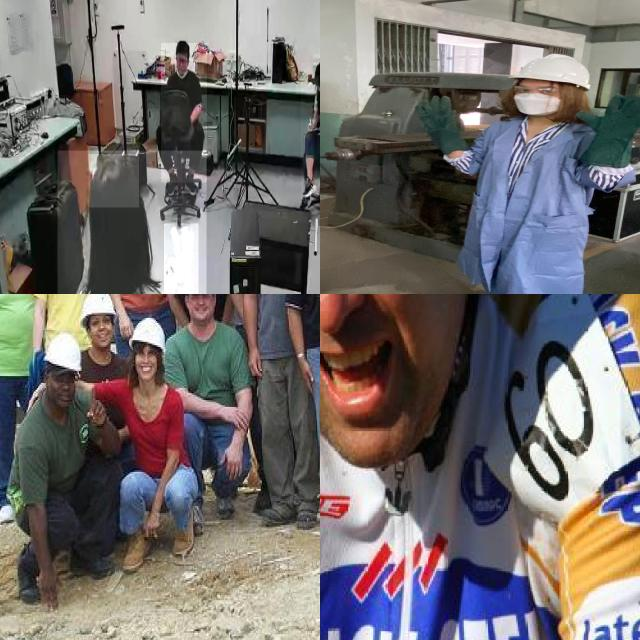face_mask: (505, 82, 567, 117)
face_nomask: (320, 294, 425, 416), (51, 372, 79, 404), (133, 349, 160, 376), (89, 316, 113, 346), (187, 294, 215, 317), (176, 52, 188, 74)
glasses: (510, 84, 564, 97)
hand_glove: (570, 92, 640, 141), (163, 223, 198, 294), (413, 94, 467, 136)
hand_noglove: (32, 565, 68, 612), (295, 357, 320, 395), (220, 446, 247, 480), (84, 398, 108, 429), (225, 405, 252, 431), (245, 349, 267, 378), (142, 512, 160, 538), (306, 117, 316, 132), (317, 122, 320, 133)
head_helmet: (509, 53, 595, 92), (44, 333, 85, 373), (127, 316, 170, 354), (78, 294, 116, 320)
head_nohelmet: (89, 154, 140, 208), (175, 39, 189, 53), (314, 60, 320, 76)
person: (405, 50, 640, 294), (6, 342, 120, 598), (111, 314, 204, 570), (162, 294, 255, 526), (57, 150, 206, 294), (244, 294, 320, 536), (0, 294, 51, 529), (279, 294, 320, 538), (161, 43, 207, 183), (25, 294, 111, 352), (105, 294, 184, 345), (301, 62, 320, 201)
shoes: (116, 520, 156, 576), (13, 542, 44, 608), (64, 548, 119, 580), (168, 504, 196, 558), (259, 502, 297, 530), (210, 484, 239, 520), (290, 501, 320, 531), (0, 495, 19, 525), (165, 167, 179, 197), (302, 171, 316, 199), (184, 168, 196, 198)
